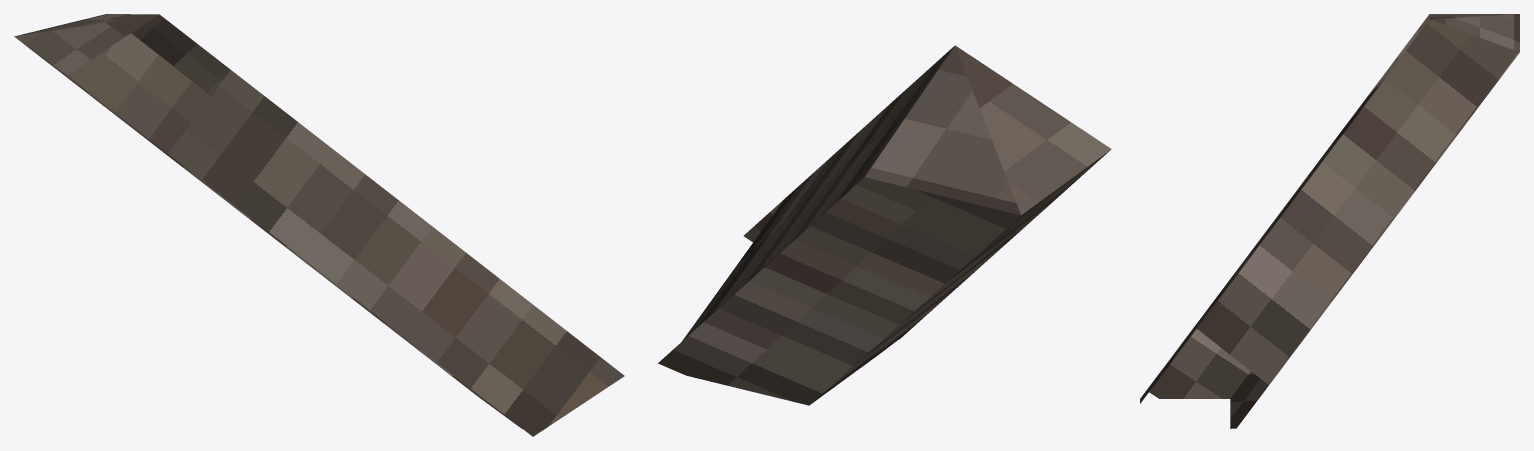
Rendered from elm_thin_branch_45_diagonal.obj.
The picture shows the model from 3 angles, left to right: view 1: azimuth 30°, elevation 25°; view 2: azimuth 150°, elevation 25°; view 3: azimuth 270°, elevation 25°; orthographic projection. The views are drawn at different scales.
Visible parts, largest first — view 1: cube_selection; view 2: cube_selection; view 3: cube_selection.
Part boxes in pixels (left/top/right/bottom): cube_selection: left=14, top=14, right=624, bottom=436; cube_selection: left=658, top=45, right=1111, bottom=405; cube_selection: left=1140, top=14, right=1519, bottom=428.
Bounding box in the file's own units: 1.31 × 1.12 × 1.31.
